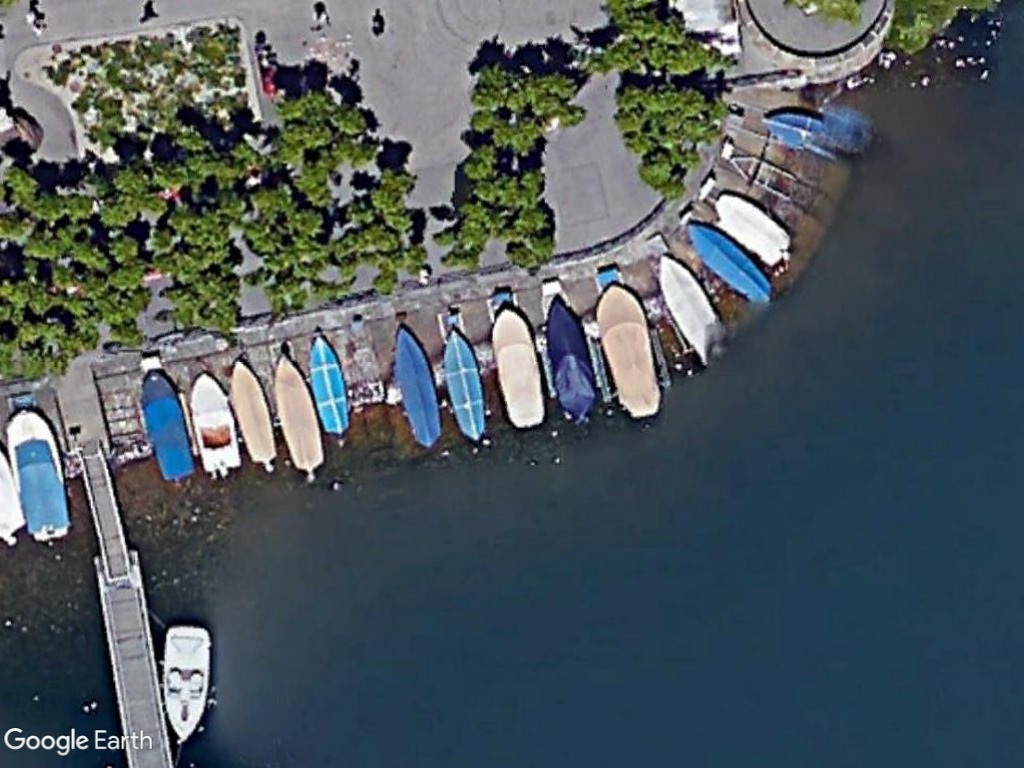boat: (2, 403, 72, 544), (597, 283, 665, 421), (686, 220, 776, 310), (487, 303, 547, 434), (135, 366, 198, 487), (160, 617, 218, 743), (271, 350, 328, 477), (543, 290, 597, 423), (393, 320, 444, 451), (713, 193, 798, 271), (187, 367, 243, 477), (225, 354, 278, 467), (439, 328, 487, 444), (307, 331, 353, 439)
